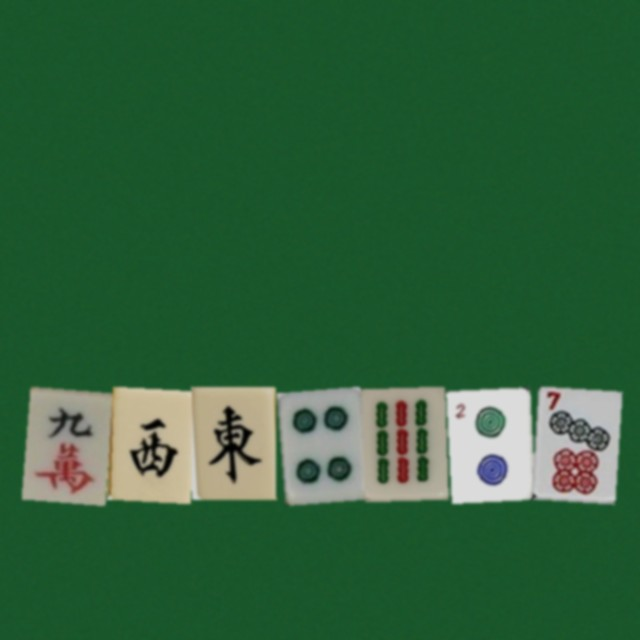tile: (21, 386, 105, 499), (106, 386, 190, 499), (191, 386, 275, 499), (276, 386, 360, 499), (361, 386, 445, 499), (446, 386, 530, 499), (531, 386, 615, 499)
